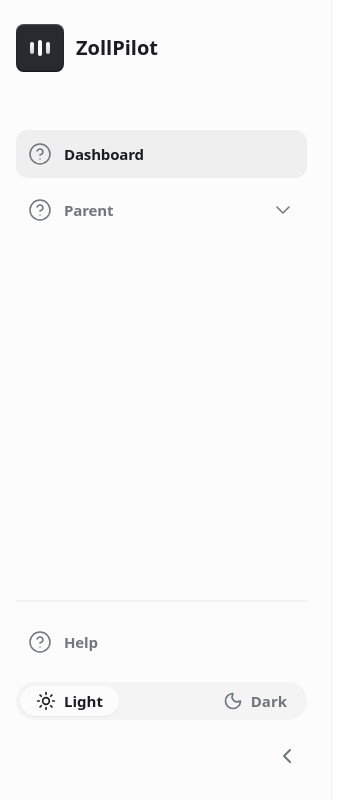
Scenario: Sidebar Structure › renders collapsed state when toggled
Click the button with test id "sidebar-toggle". click: (287, 756)
box: [267,736,307,776]
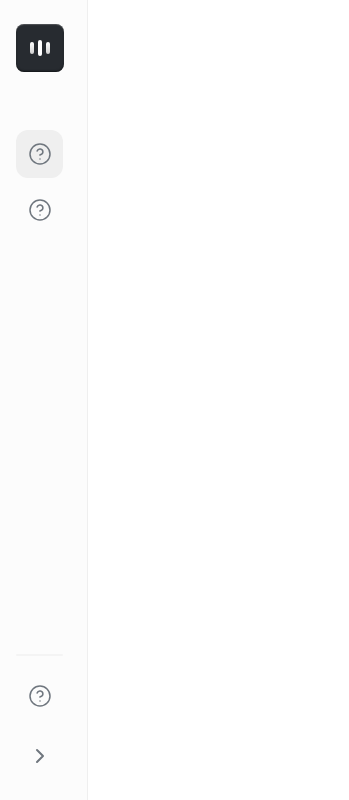
Expected: the text "Dashboard" is gone
